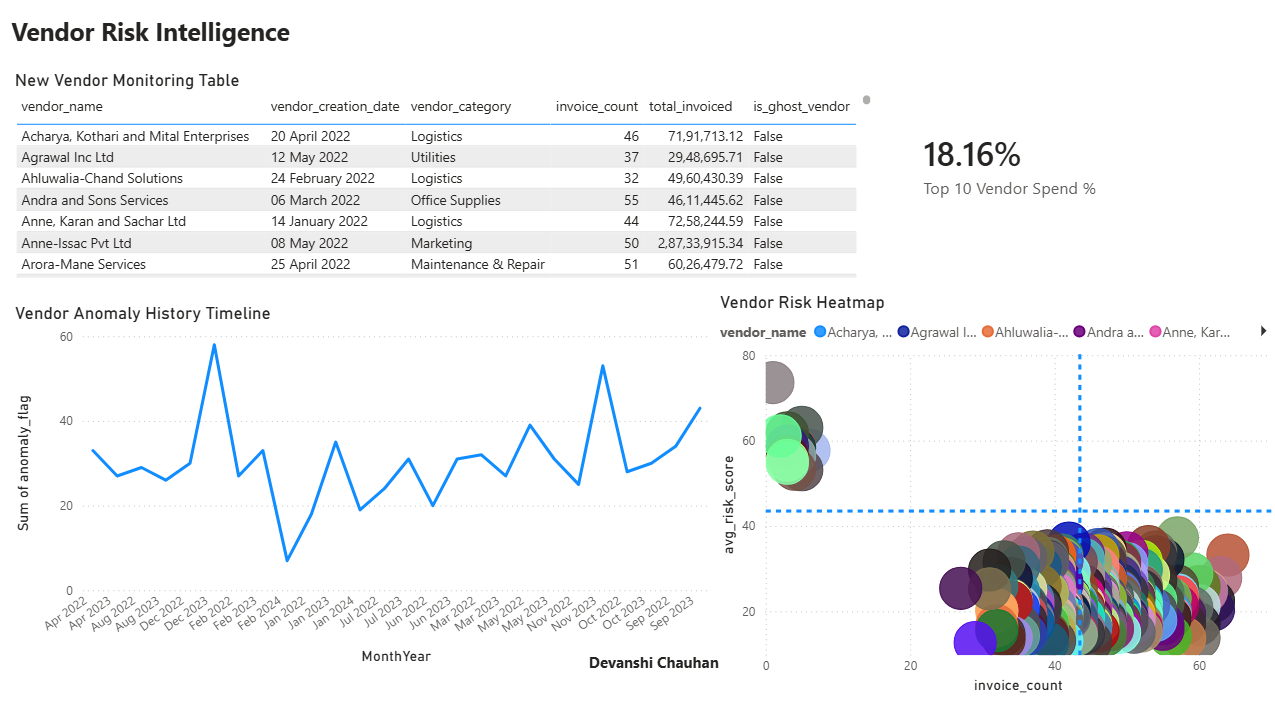

The dashboard page shown, as its layout file describes it:
{"tool":"powerbi","page":{"name":"Vendor Risk Intelligence","canvas":[1280,720],"ordinal":2},"visuals":[{"type":"scatterChart","title":"Vendor Risk Heatmap","fields":{"Series":["vendor_risk_summary.vendor_name"],"Size":["CountNonNull(vendor_risk_summary.total_invoiced)"],"X":["vendor_risk_summary.invoice_count"],"Y":["vendor_risk_summary.avg_risk_score"]},"box":[714.1,299.6,556.4,398.6],"z":0},{"type":"lineChart","title":"Vendor Anomaly History Timeline","fields":{"Category":["DateTable.MonthYear"],"Y":["Sum(powerbi_master_export.anomaly_flag)"]},"box":[24.5,310.6,689.7,359.5],"z":1000},{"type":"tableEx","title":"New Vendor Monitoring Table","fields":{"Values":["vendor_risk_summary.vendor_name","vendor_risk_summary.vendor_creation_date","vendor_risk_summary.vendor_category","vendor_risk_summary.invoice_count","vendor_risk_summary.total_invoiced","vendor_risk_summary.is_ghost_vendor"]},"box":[24.5,83.2,847.4,207.9],"z":2000},{"type":"cardVisual","fields":{"Data":["_Measures.Top 10 Vendor Spend %"]},"box":[889,69.7,266.6,211.6],"z":3000},{"type":"textbox","box":[20.2,24.5,320.3,43.3],"z":3001},{"type":"textbox","box":[585.8,646.4,145.7,33.2],"z":3002}]}

Visuals, with their boxes in screenshot pixels (x1, y1, x2, y2), scaled from the page's 1280x720 canvas onto the 1275x712 screenshot:
"Vendor Risk Heatmap" scatterChart: locate(711, 296, 1266, 690)
"Vendor Anomaly History Timeline" lineChart: locate(24, 307, 711, 663)
"New Vendor Monitoring Table" tableEx: locate(24, 82, 868, 288)
cardVisual - _Measures.Top 10 Vendor Spend %: locate(886, 69, 1151, 278)
textbox: locate(20, 24, 339, 67)
textbox: locate(584, 639, 729, 672)
